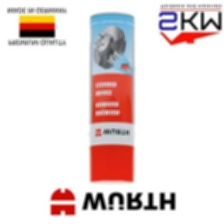aerosol_cans: (84, 10, 138, 186)
